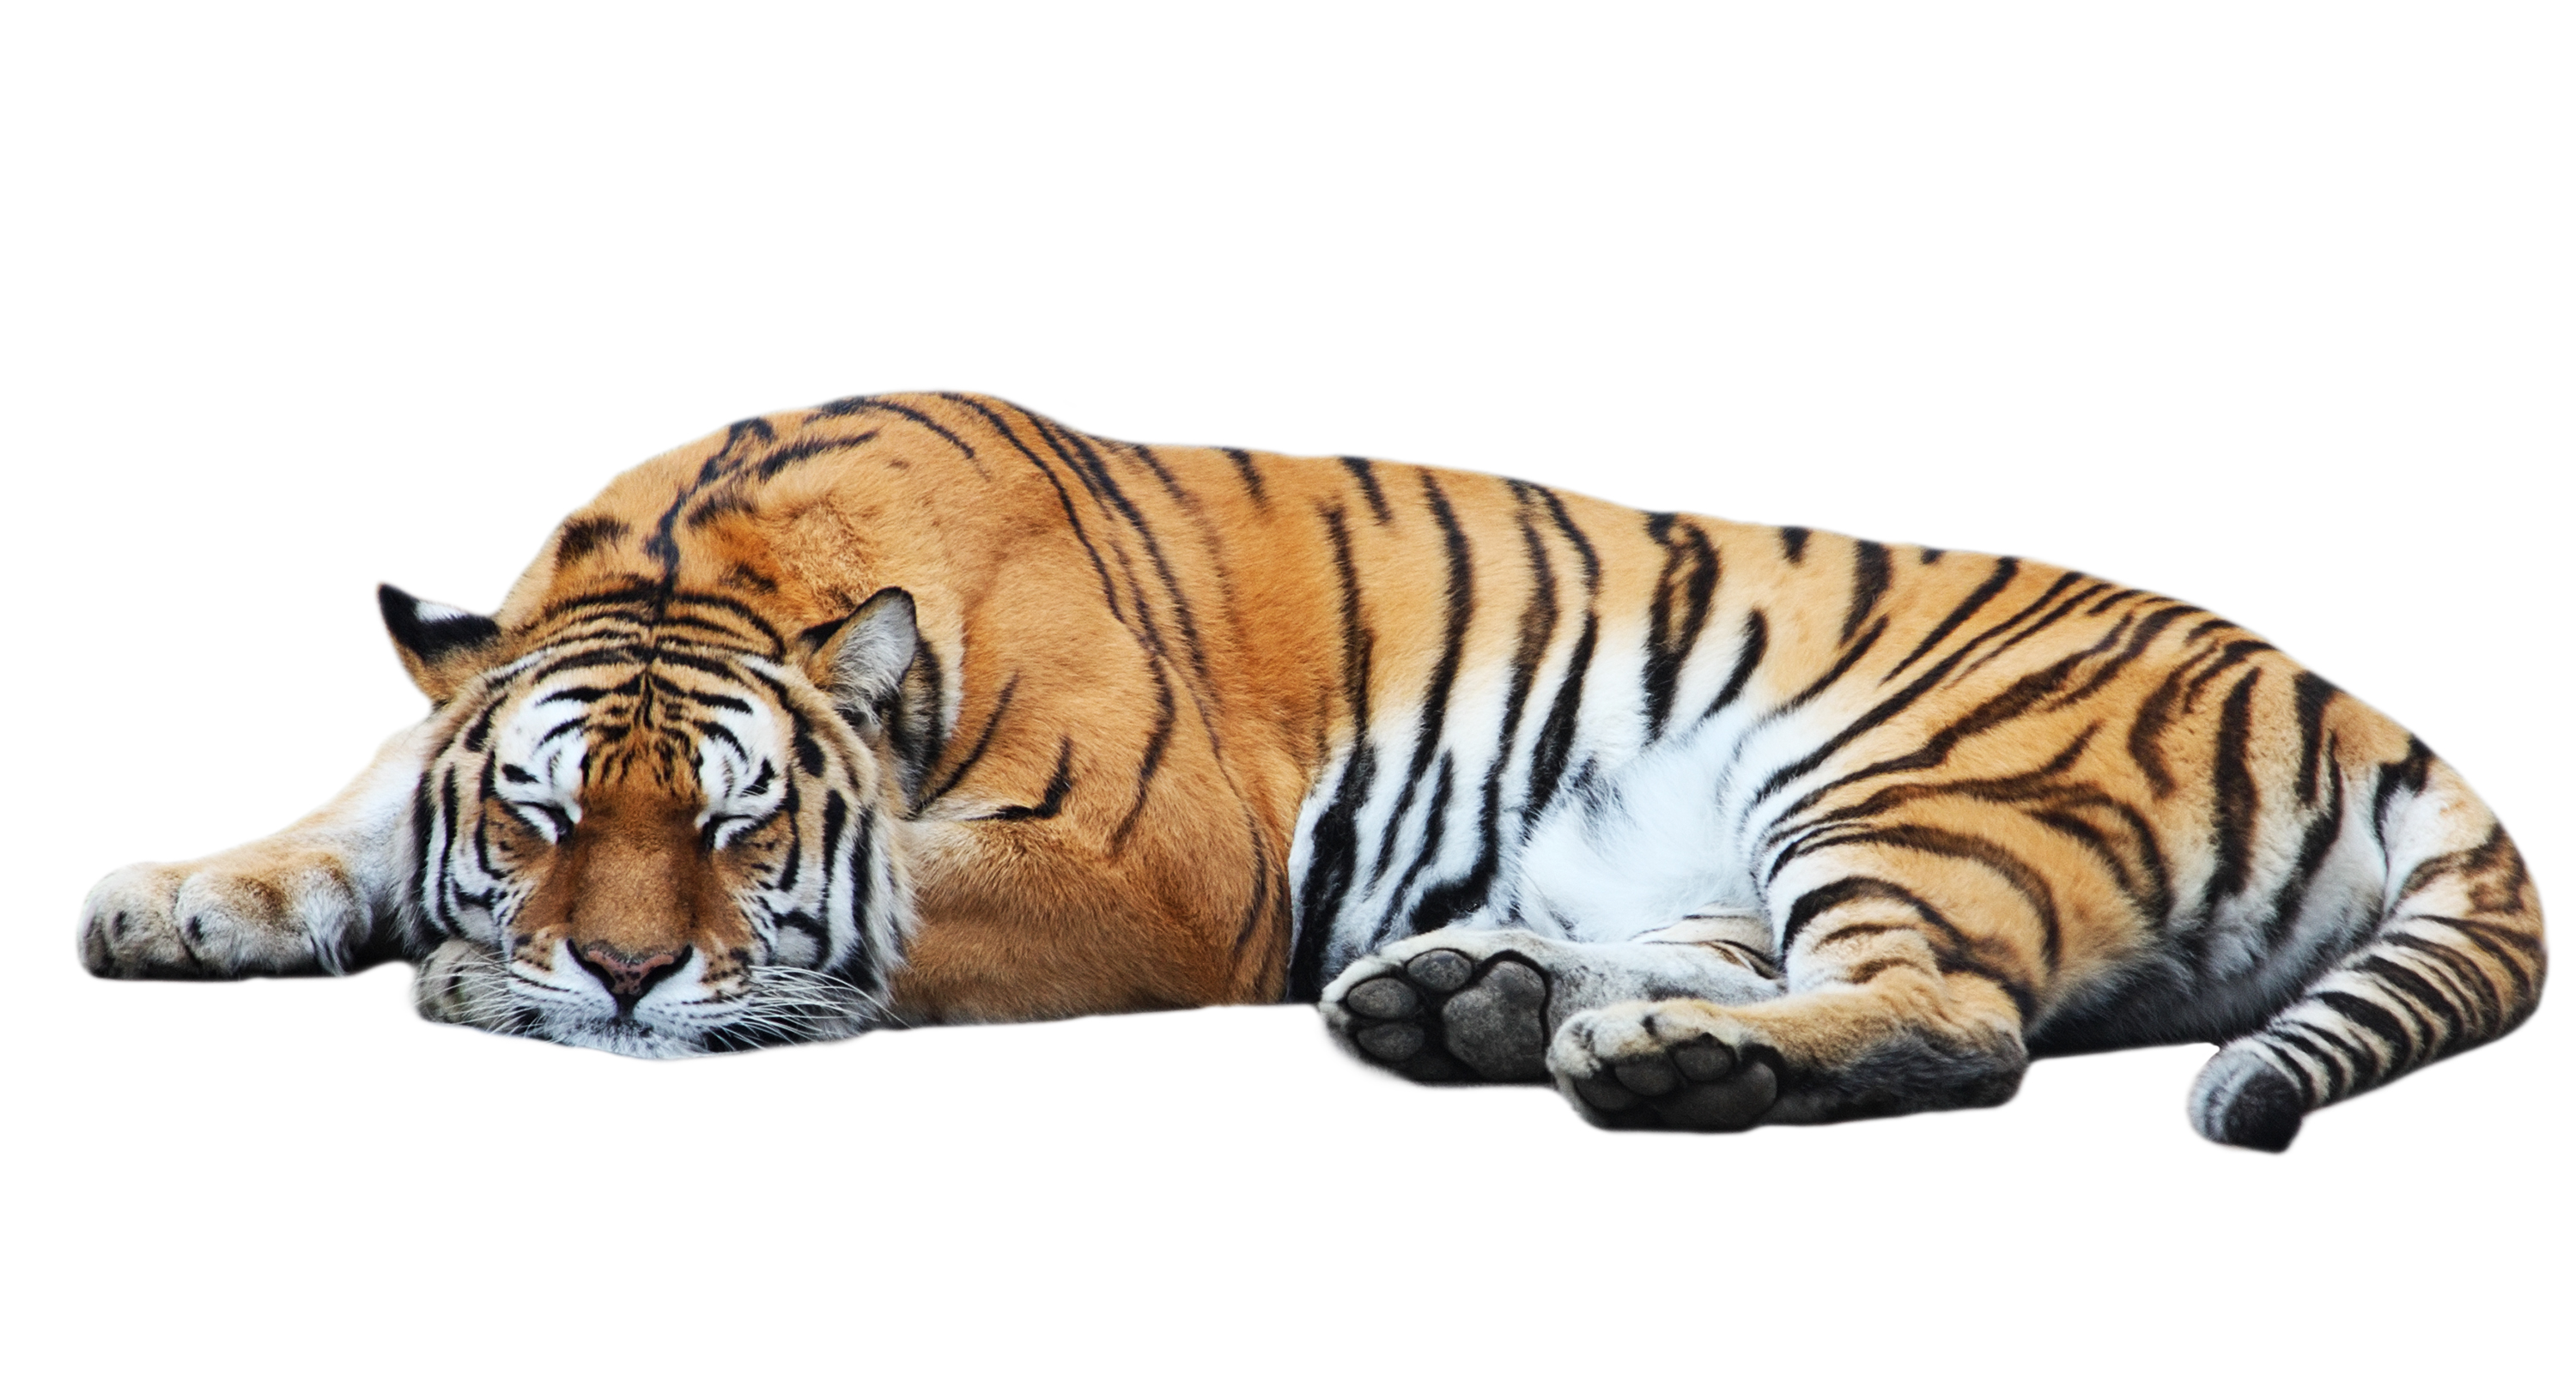tiger: (241, 371, 2506, 1159)
